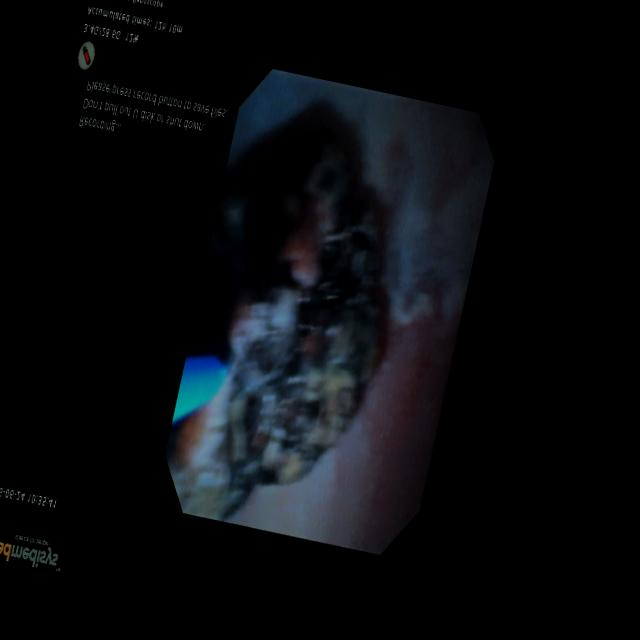stone-new: (164, 129, 381, 520)
